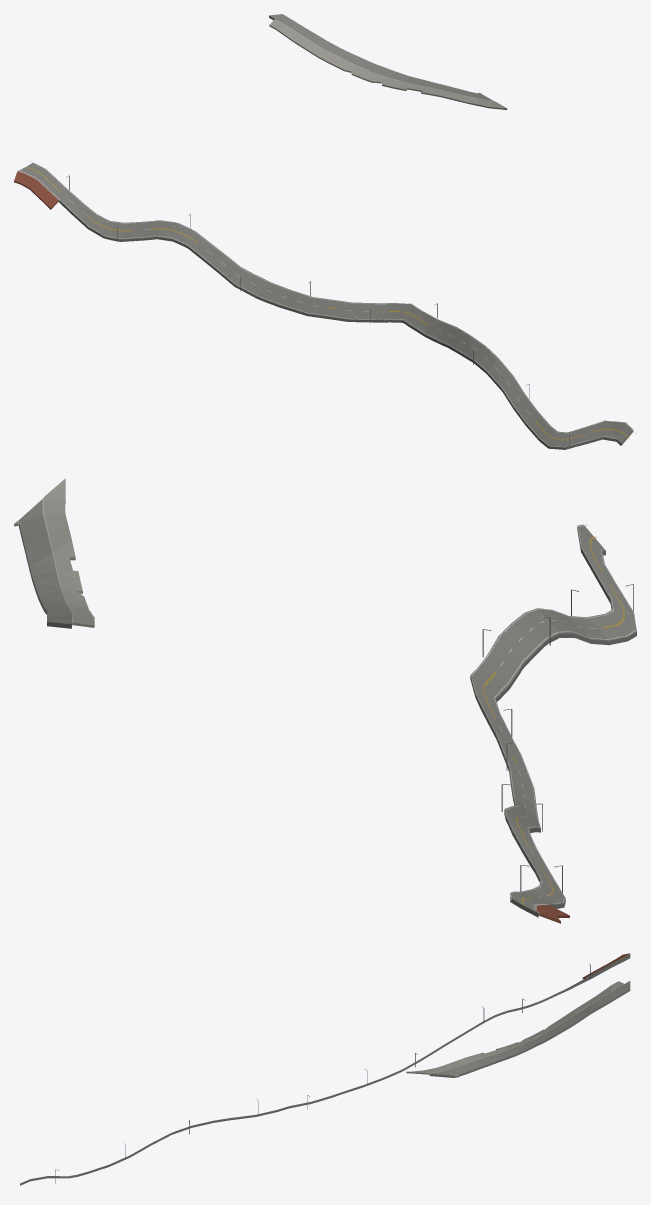
The picture shows the model from 3 angles, top to bottom: view 1: azimuth 30°, elevation 25°; view 2: azimuth 150°, elevation 25°; view 3: azimuth 270°, elevation 25°; orthographic projection. The views are drawn at different scales.
Bounding box in the file's own units: 200 × 109 × 298.
